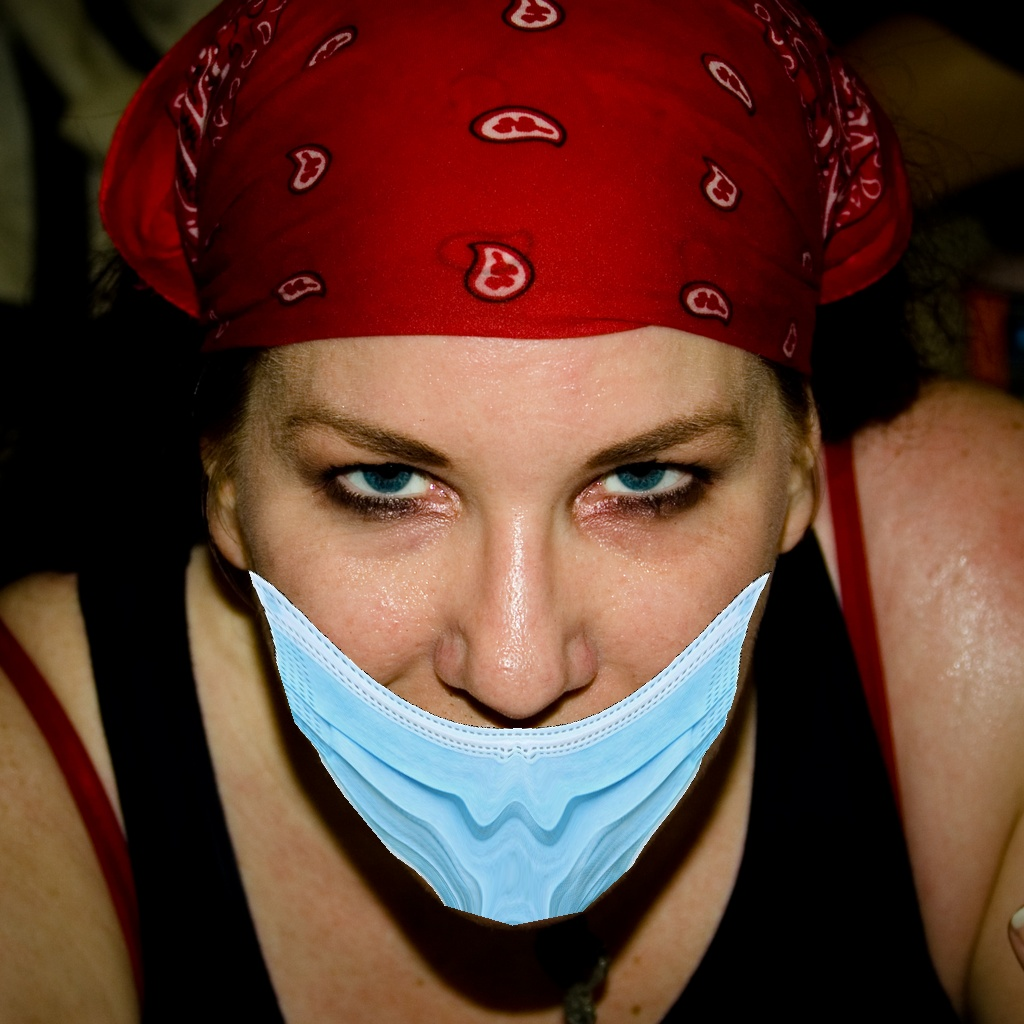mascarilla_mal_puesta: (212, 363, 762, 950)
